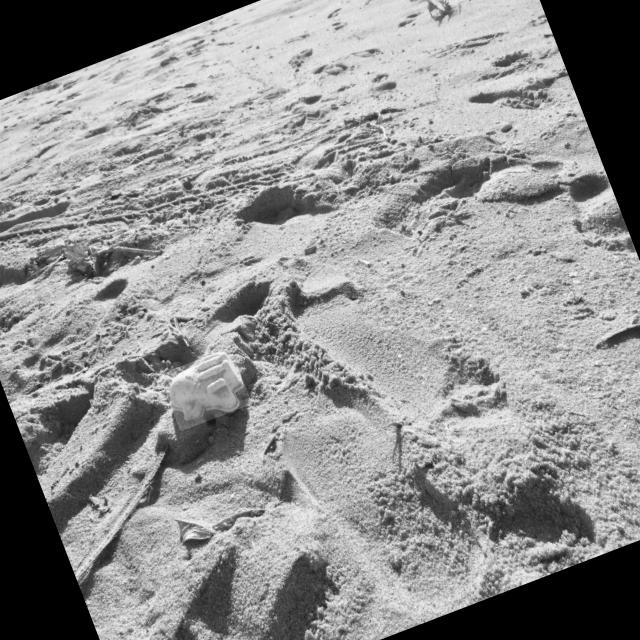Cigarette: (304, 246, 316, 253)
Other plastic bottle: (170, 352, 244, 422)
